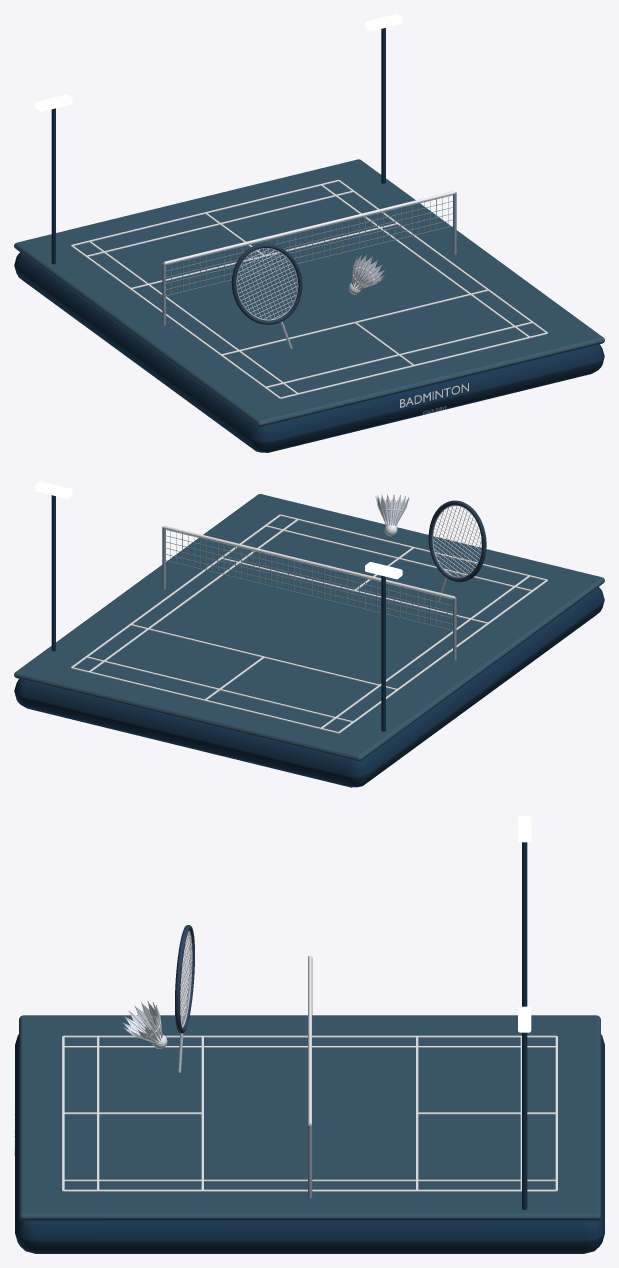
Rendered from badminton-court.glb.
3 views of the same model, one above another, from view 1: azimuth 30°, elevation 25°; view 2: azimuth 150°, elevation 25°; view 3: azimuth 270°, elevation 25° (orthographic). The views are drawn at different scales.
Parts seen in each view (by area): view 1: Ground, Floating terrain, Net tape, Carbon frame, Light mast, Light mast.001, Service line, Sideline, Service line.001, Service line.004, Sideline.002, Service line.005 (+3 smaller); view 2: Ground, Floating terrain, Net tape, Carbon frame, Light mast, Light mast.001, Service line.001, Service line.005, Service line.003, Sideline.001, Sideline, Sideline.003 (+6 smaller); view 3: Ground, Floating terrain, Sideline.001, Sideline.003, Sideline, Light mast.001, Carbon frame, Light mast, Sideline.002, Net tape.
Part boxes in pixels (left/top/right/bottom): Ground: left=14, top=159, right=604, bottom=426; Floating terrain: left=14, top=252, right=604, bottom=452; Net tape: left=163, top=191, right=455, bottom=264; Carbon frame: left=231, top=243, right=302, bottom=324; Light mast: left=51, top=108, right=55, bottom=264; Light mast.001: left=381, top=28, right=385, bottom=183; Service line: left=280, top=332, right=547, bottom=398; Sideline: left=71, top=245, right=280, bottom=398; Service line.001: left=71, top=180, right=338, bottom=245; Service line.004: left=266, top=322, right=532, bottom=387; Sideline.002: left=89, top=241, right=298, bottom=393; Service line.005: left=86, top=190, right=352, bottom=256; Ground: left=14, top=494, right=604, bottom=761; Floating terrain: left=14, top=587, right=604, bottom=787; Net tape: left=163, top=525, right=455, bottom=599; Carbon frame: left=428, top=500, right=486, bottom=582; Light mast: left=381, top=575, right=385, bottom=731; Light mast.001: left=51, top=495, right=55, bottom=651; Service line.001: left=71, top=667, right=338, bottom=733; Service line.005: left=86, top=656, right=352, bottom=722; Service line.003: left=130, top=624, right=396, bottom=689; Sideline.001: left=71, top=514, right=280, bottom=667; Sideline: left=338, top=580, right=547, bottom=733; Sideline.003: left=89, top=519, right=298, bottom=671; Ground: left=19, top=1015, right=600, bottom=1220; Floating terrain: left=15, top=1034, right=604, bottom=1253; Sideline.001: left=63, top=1189, right=556, bottom=1191; Sideline.003: left=63, top=1179, right=556, bottom=1181; Sideline: left=63, top=1035, right=556, bottom=1037; Light mast.001: left=522, top=1032, right=527, bottom=1209; Carbon frame: left=175, top=925, right=194, bottom=1033; Light mast: left=522, top=842, right=527, bottom=1006; Sideline.002: left=64, top=1046, right=556, bottom=1047; Net tape: left=308, top=955, right=311, bottom=1124.
Bounding box in the file's own units: 9.25 × 4.96 × 11.02.
